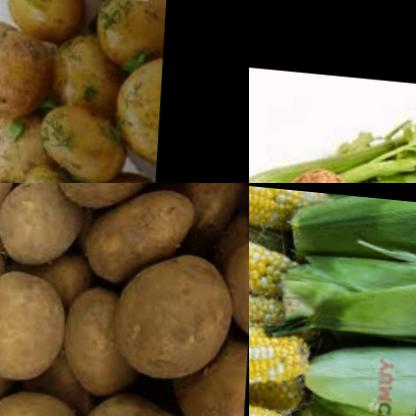celery: (249, 88, 416, 183)
corn: (249, 217, 320, 298), (249, 306, 316, 391), (249, 262, 312, 327), (249, 183, 312, 230)
potato: (107, 232, 226, 386), (60, 260, 145, 401), (74, 183, 184, 289), (0, 257, 73, 386), (39, 9, 120, 113), (100, 39, 164, 155), (36, 94, 125, 177), (167, 329, 249, 416), (0, 183, 81, 266), (84, 0, 168, 62), (0, 16, 49, 114), (78, 381, 210, 416), (153, 183, 245, 233), (210, 231, 249, 330), (52, 183, 156, 218), (0, 381, 89, 416), (4, 0, 82, 39), (0, 101, 37, 183), (74, 154, 159, 183), (18, 152, 83, 183)
